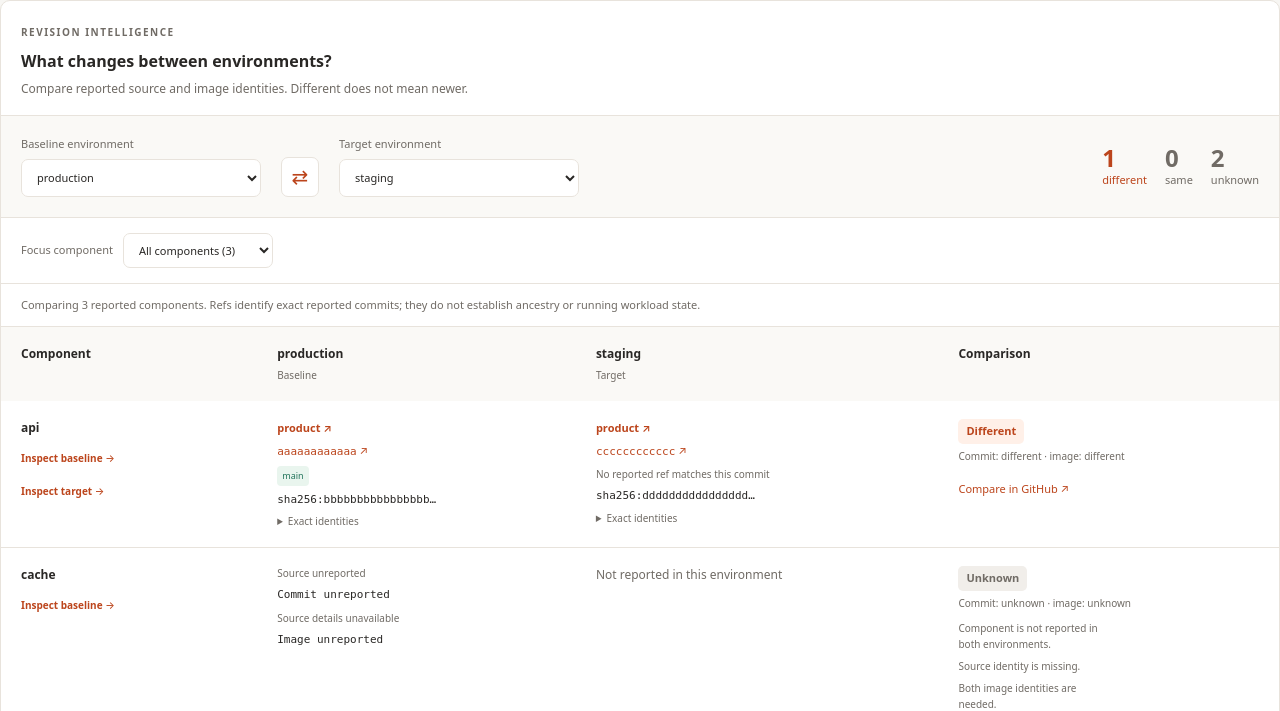
Test: compares selected environments and links exact GitHub commits without ancestry claims
The image size is (1280, 711).
Expected: the text "Different" is shown, 958,419 -> 1024,444
Click the button "Inspect target →" at [63, 491], box 21,479 -> 104,503
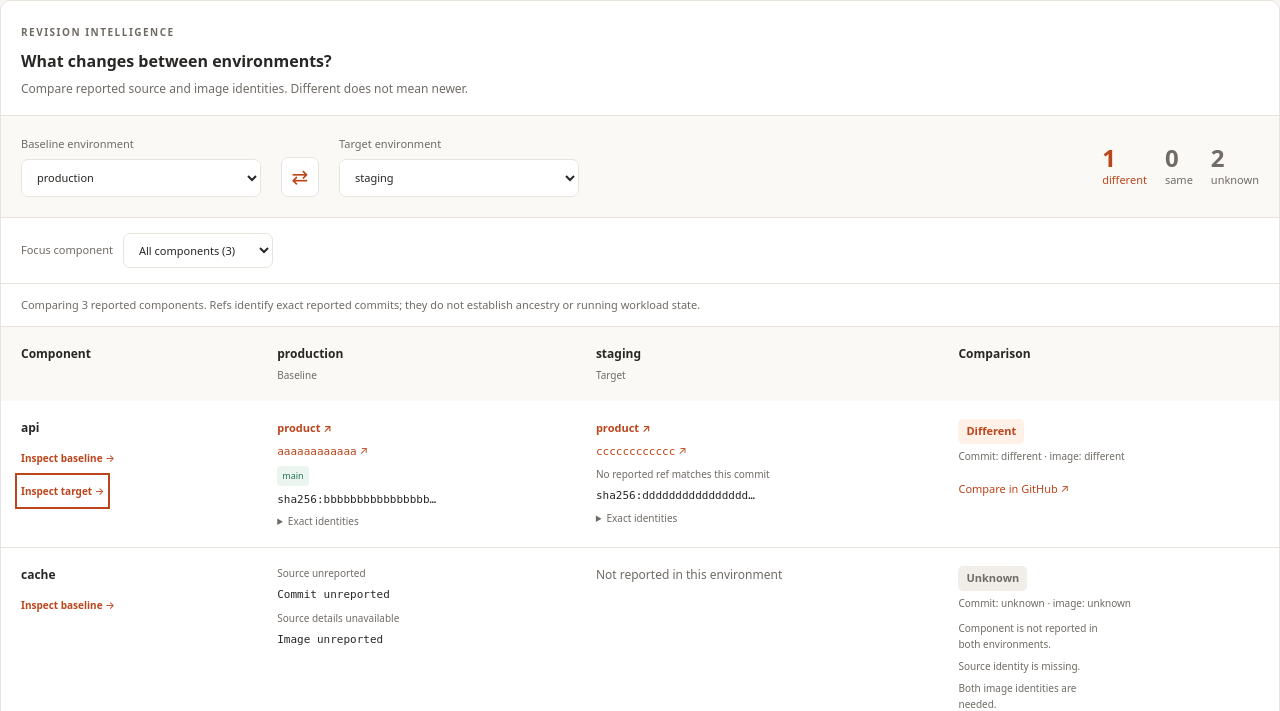
Select "production" in the dropdown labelled "Target environment" at [459, 178], box 339,158 -> 579,196
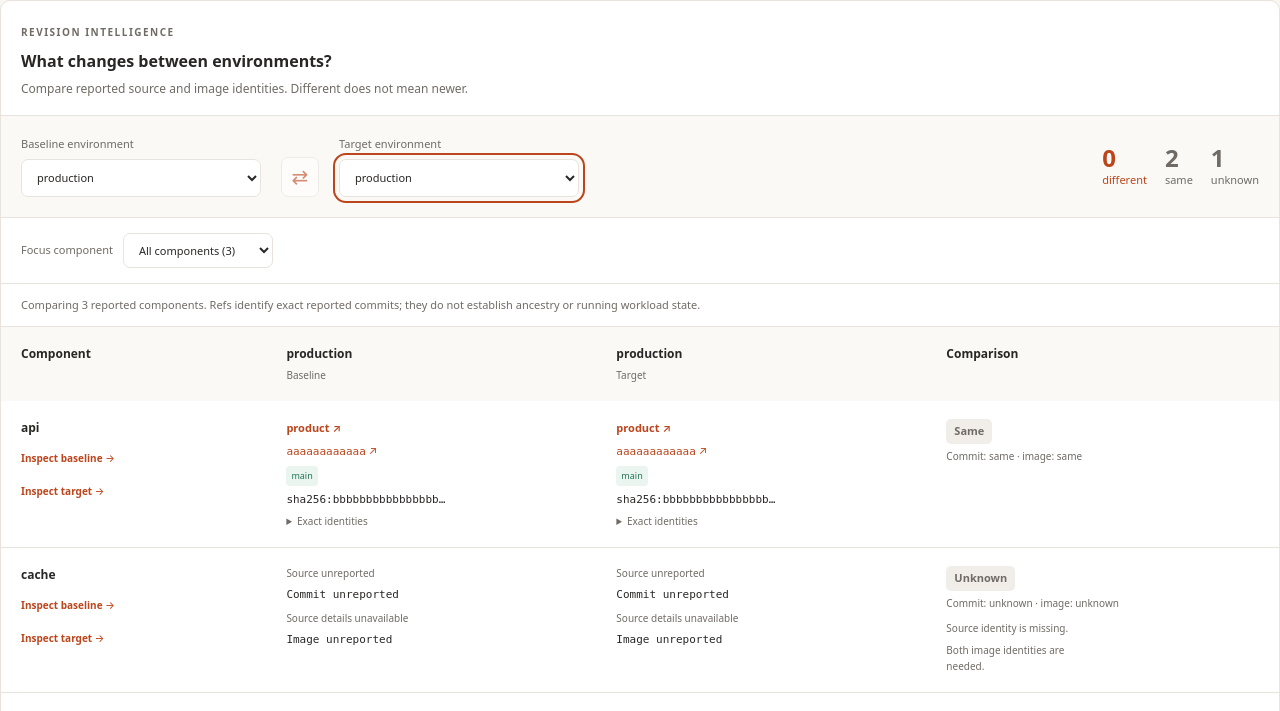
Expected: the text "Unknown" is shown, 946,566 -> 1015,591
Result: the text "Same" in the row of "api" is shown at 954,423 -> 984,438
Result: the link "Compare in GitHub" is gone
